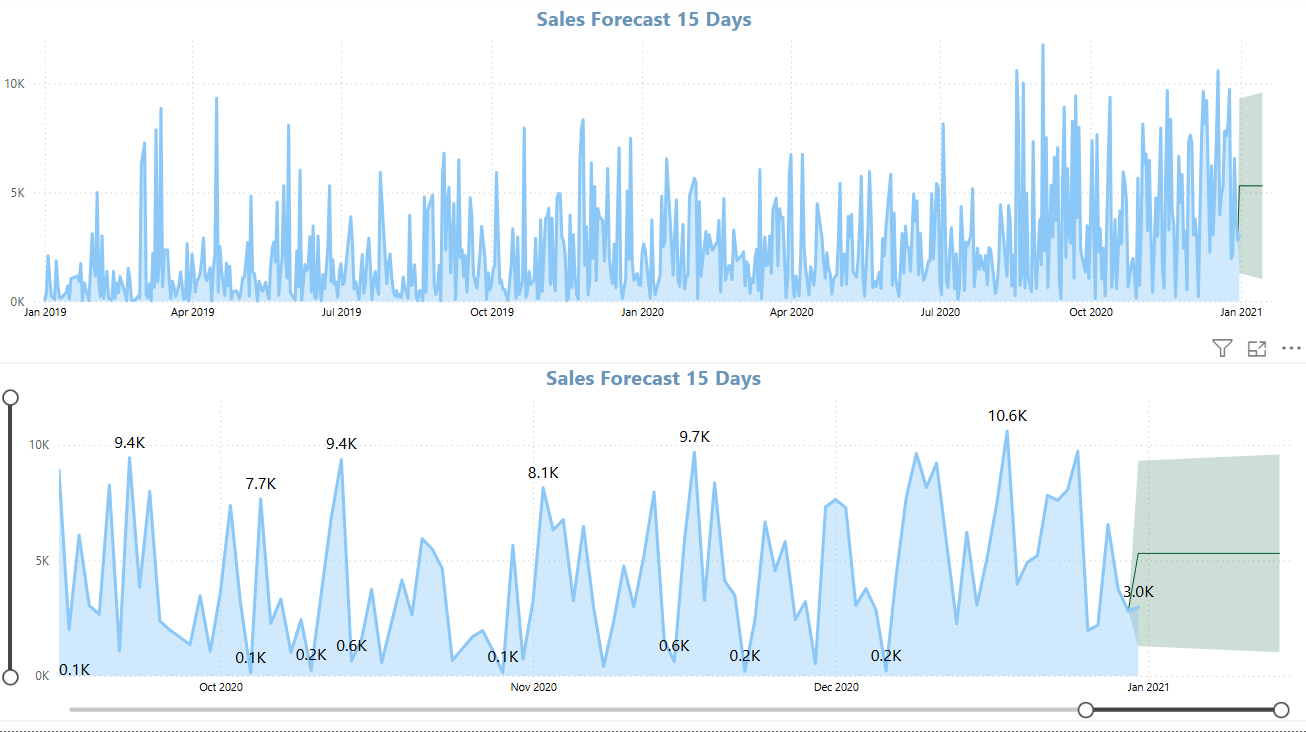

The page's visual inventory and layout, read from the dashboard file:
{"tool":"powerbi","page":{"name":"sales forecasting","canvas":[1280,720],"ordinal":1},"visuals":[{"type":"lineChart","title":"Sales Forecast 15 Days","fields":{"Y":["Sum(SuperStore_Sales_Dataset.Sales)"],"Category":["SuperStore_Sales_Dataset.Order Date"]},"box":[0,8.6,1262,319.2],"z":0},{"type":"lineChart","title":"Sales Forecast 15 Days","fields":{"Y":["Sum(SuperStore_Sales_Dataset.Sales)"],"Category":["SuperStore_Sales_Dataset.Order Date"]},"box":[0,359.5,1280.3,351],"z":1000}]}

Visuals, with their boxes in screenshot pixels (x1, y1, x2, y2), scaled from the page's 1280x720 canvas onto the 1306x732 screenshot:
"Sales Forecast 15 Days" lineChart: detection(0, 9, 1288, 333)
"Sales Forecast 15 Days" lineChart: detection(0, 365, 1305, 722)
